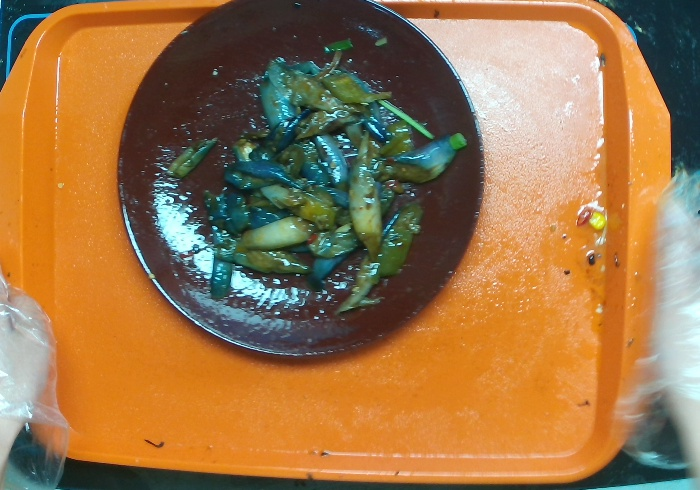HZYJPL-Ka_Fei_Yuan_Pan: (115, 1, 489, 367)
